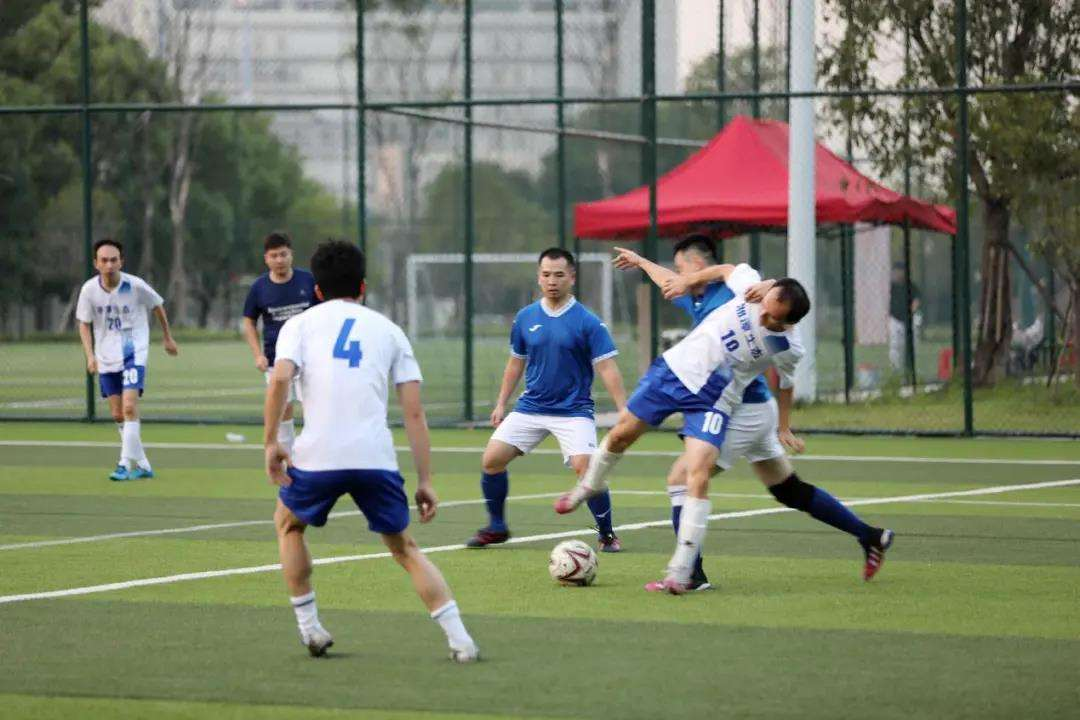football: (549, 538, 599, 592)
